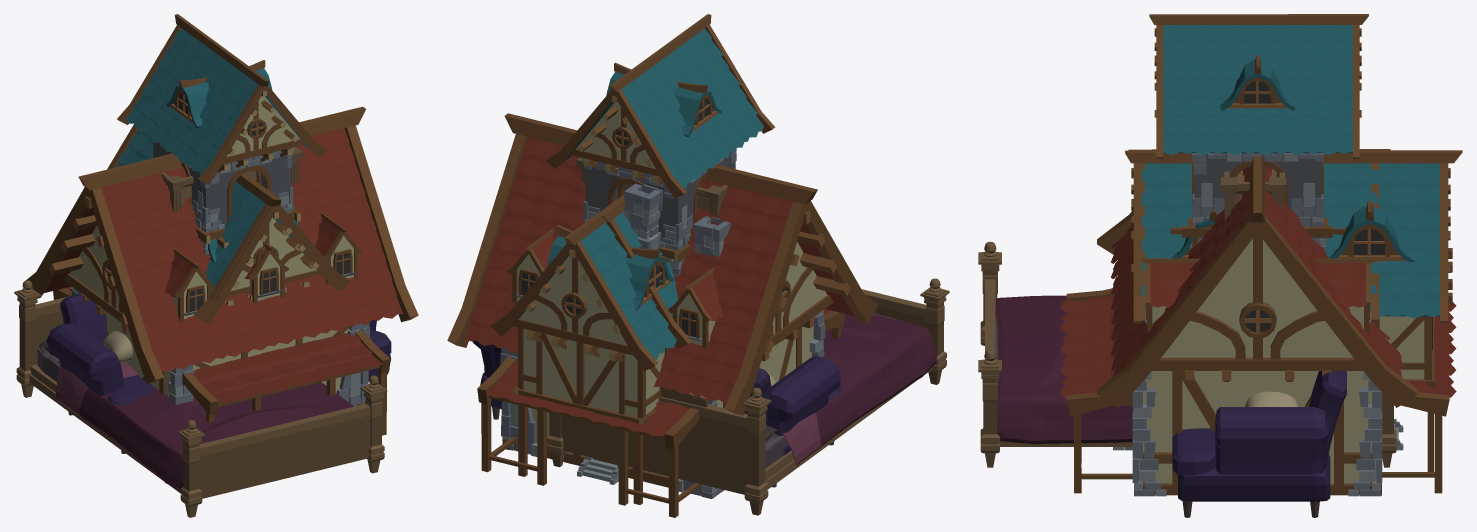
Rendered from village.glb.
3 renders of one model, left to right at view 1: azimuth 30°, elevation 25°; view 2: azimuth 150°, elevation 25°; view 3: azimuth 270°, elevation 25°, orthographic. The views are drawn at different scales.
Visible parts, largest first — view 1: Inn, Bell_Tower, BedFrame, Comforter, House_2, Sofa, House_1, BookCase_Single, SackTrench, Mattress; view 2: Inn, House_2, Bell_Tower, BedFrame, Comforter, Sofa, House_1, BookCase_Single; view 3: Inn, Bell_Tower, House_2, Sofa, Comforter, BedFrame, BookCase_Single, House_1, SackTrench.
Part boxes in pixels (x1=…): Inn: x1=23, y1=106, x2=418, y2=435; Bell_Tower: x1=117, y1=14, x2=327, y2=254; BedFrame: x1=14, y1=280, x2=387, y2=517; Comforter: x1=55, y1=362, x2=353, y2=490; House_2: x1=107, y1=124, x2=351, y2=322; Sofa: x1=46, y1=293, x2=391, y2=453; House_1: x1=193, y1=174, x2=339, y2=322; BookCase_Single: x1=161, y1=147, x2=302, y2=212; SackTrench: x1=103, y1=331, x2=132, y2=363; Mattress: x1=37, y1=347, x2=60, y2=381; Inn: x1=447, y1=113, x2=877, y2=517; House_2: x1=490, y1=194, x2=731, y2=504; Bell_Tower: x1=546, y1=14, x2=775, y2=276; BedFrame: x1=547, y1=278, x2=949, y2=515; Comforter: x1=783, y1=314, x2=936, y2=465; Sofa: x1=472, y1=340, x2=842, y2=487; House_1: x1=599, y1=183, x2=691, y2=348; BookCase_Single: x1=576, y1=157, x2=727, y2=216; Inn: x1=1060, y1=155, x2=1456, y2=496; Bell_Tower: x1=1149, y1=14, x2=1368, y2=253; House_2: x1=1125, y1=150, x2=1462, y2=471; Sofa: x1=1172, y1=371, x2=1346, y2=517; Comforter: x1=995, y1=295, x2=1132, y2=444; BedFrame: x1=978, y1=241, x2=1396, y2=467; BookCase_Single: x1=1221, y1=169, x2=1286, y2=220; House_1: x1=1128, y1=149, x2=1390, y2=322; SackTrench: x1=1245, y1=391, x2=1298, y2=406.
Size of the model in its own units: 4.25 by 5.04 by 4.9.
